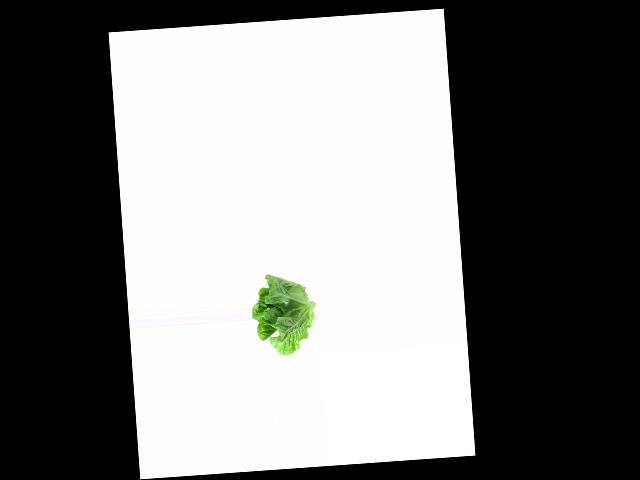lettuce: (249, 270, 315, 356)
